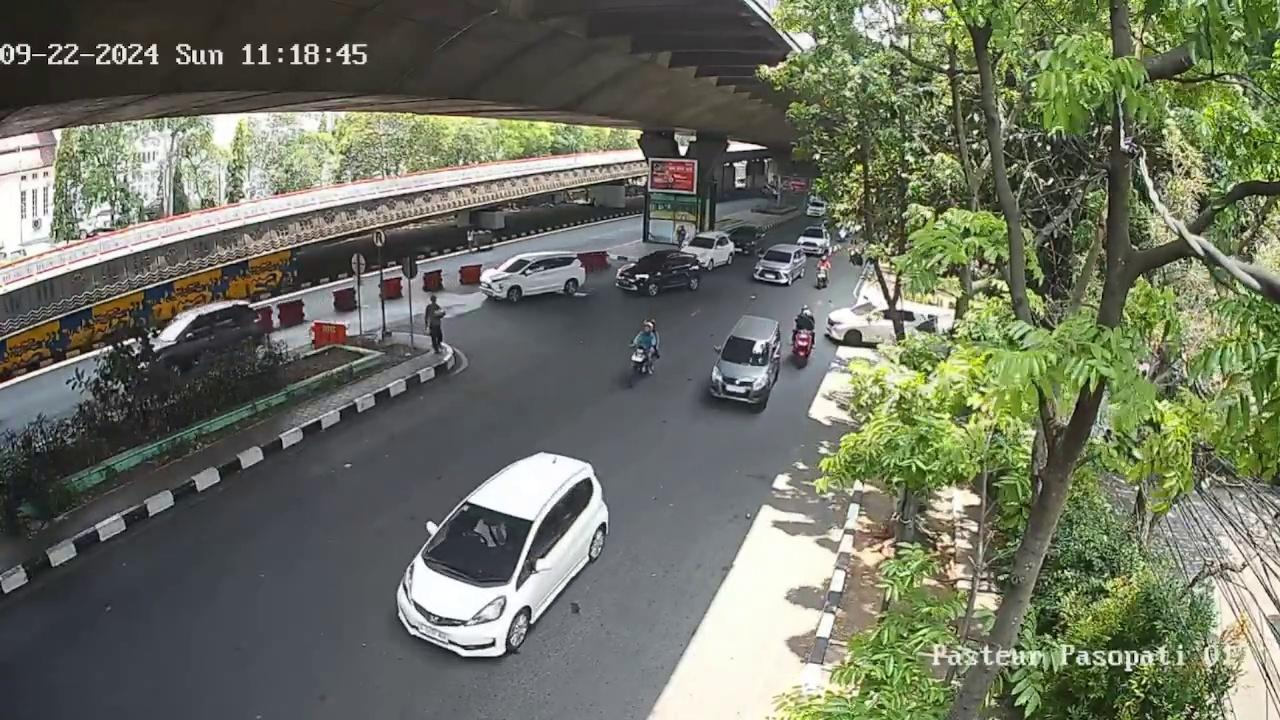pakai: (472, 513, 507, 551)
windshield: (424, 501, 532, 582), (719, 335, 769, 368), (764, 250, 797, 264), (689, 238, 716, 247)
